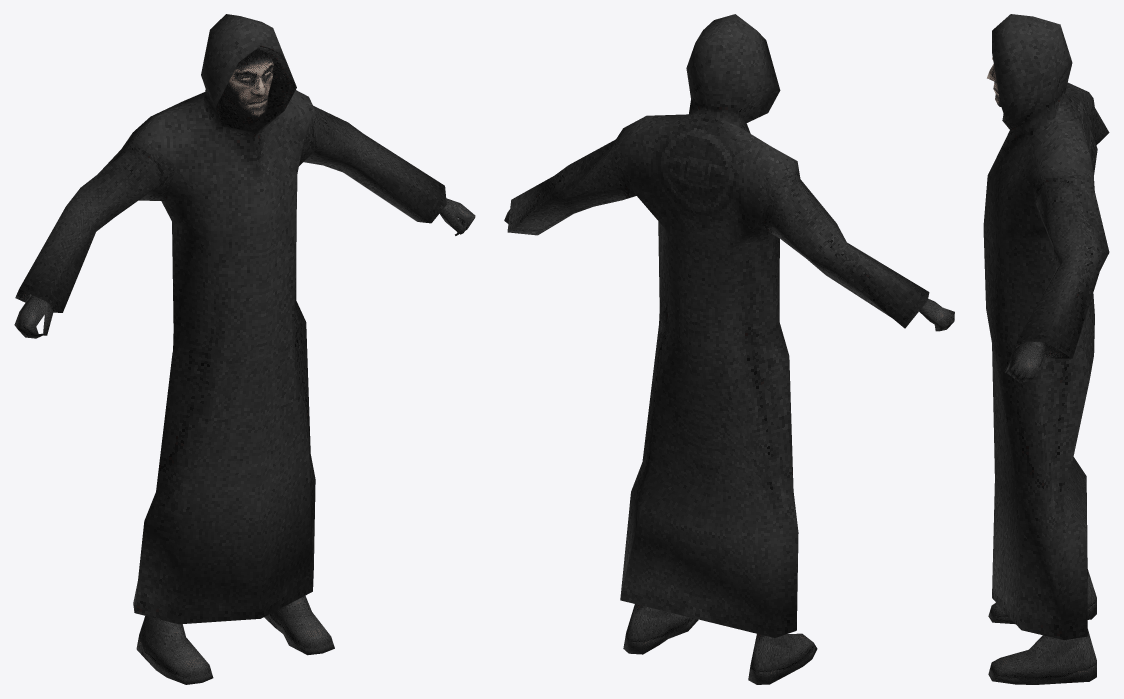
The model's file is cultist.glb.
3 views of the same model, side by side, from view 1: azimuth 30°, elevation 25°; view 2: azimuth 150°, elevation 25°; view 3: azimuth 270°, elevation 25° (orthographic). The views are drawn at different scales.
Parts seen in each view (by area): view 1: cultist; view 2: cultist; view 3: cultist.
Boxes of the visible parts, left/top/right/bottom form: cultist: left=14, top=14, right=475, bottom=684; cultist: left=504, top=14, right=954, bottom=684; cultist: left=983, top=14, right=1109, bottom=684.
Bounding box in the file's own units: 1.32 × 1.75 × 0.3172.
1 material, 1 textured.
